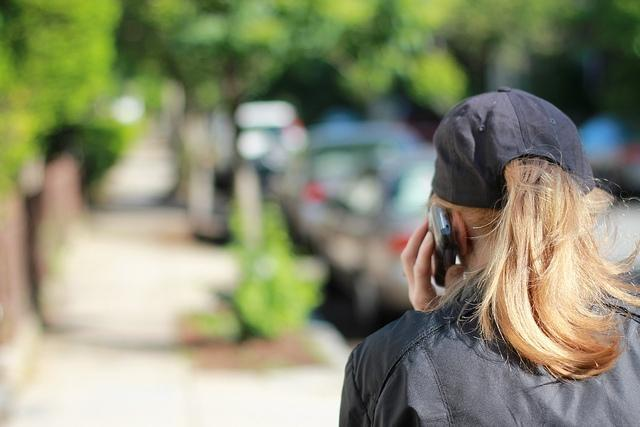car: (290, 145, 440, 322), (264, 122, 426, 223), (232, 99, 310, 186), (580, 115, 640, 204)
